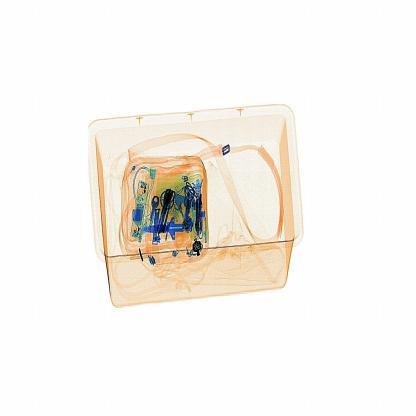gun: (132, 212, 199, 250)
